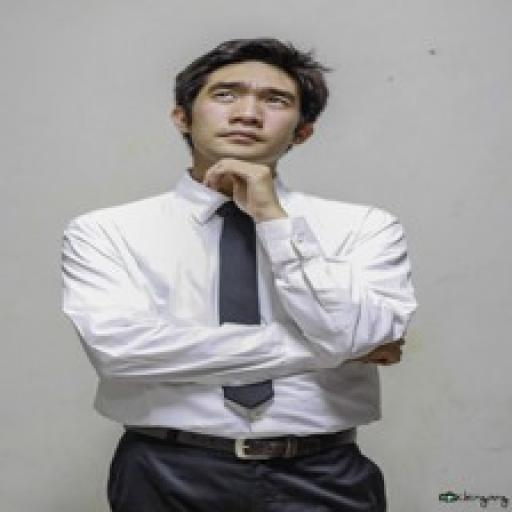human: (66, 29, 423, 512)
